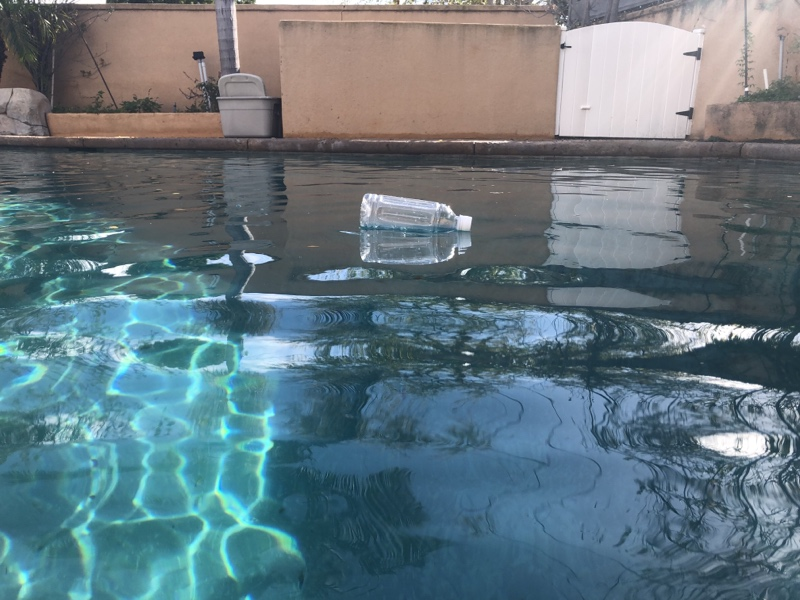Plastic Bottle: (358, 188, 475, 237)
